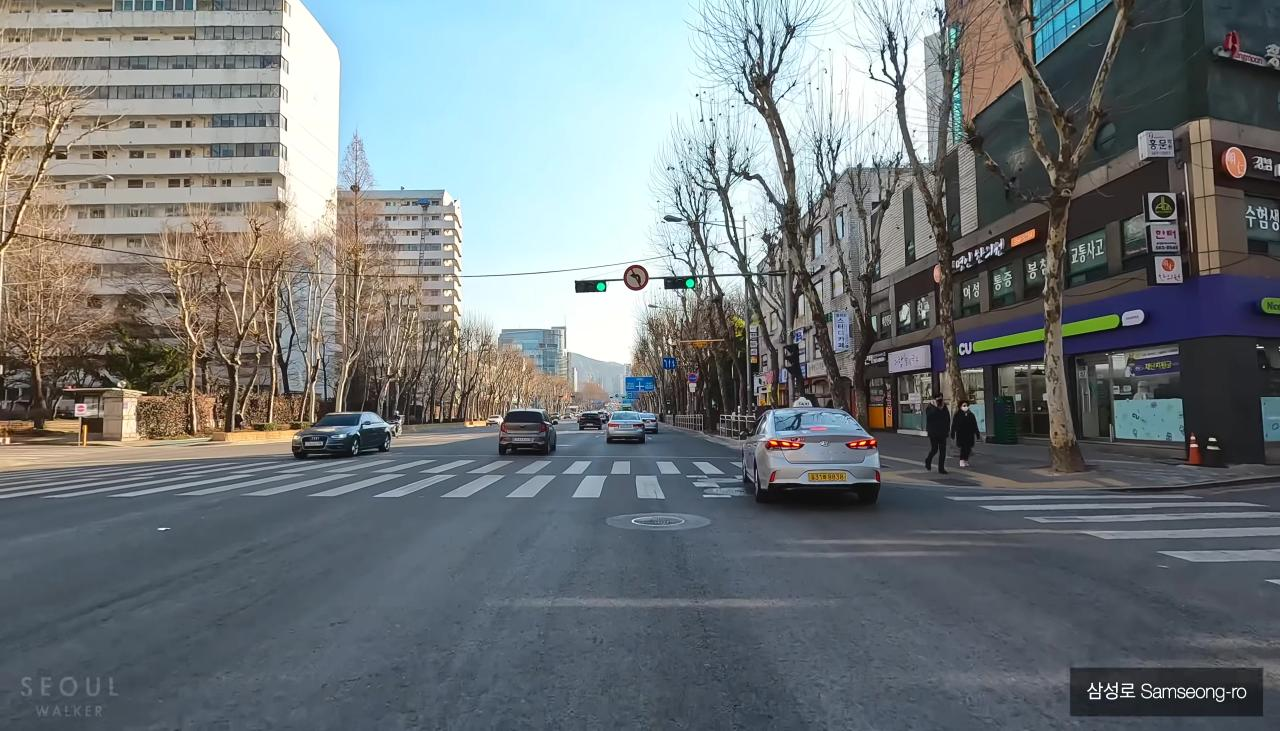Green Light: (686, 278, 696, 289), (596, 282, 606, 292)
